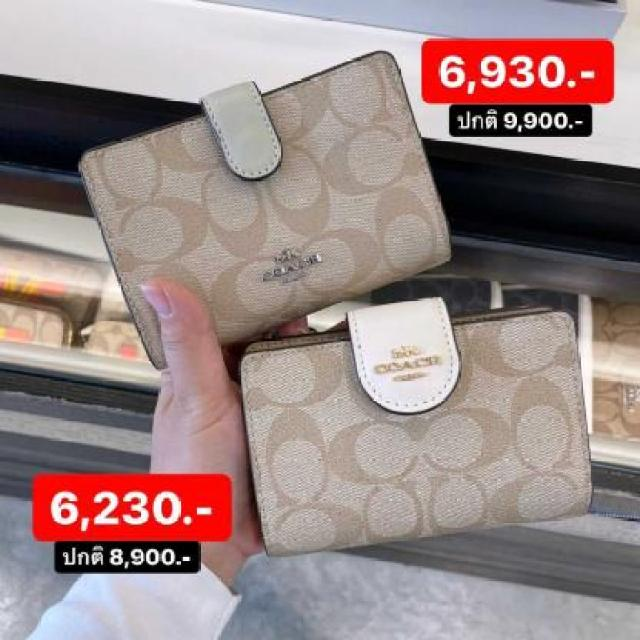Bag: (59, 38, 472, 374), (176, 272, 613, 558)
